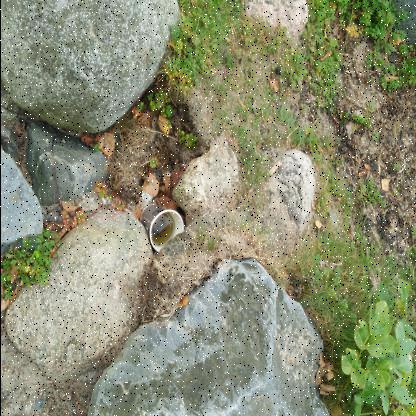cardboard: (204, 232, 254, 278)
